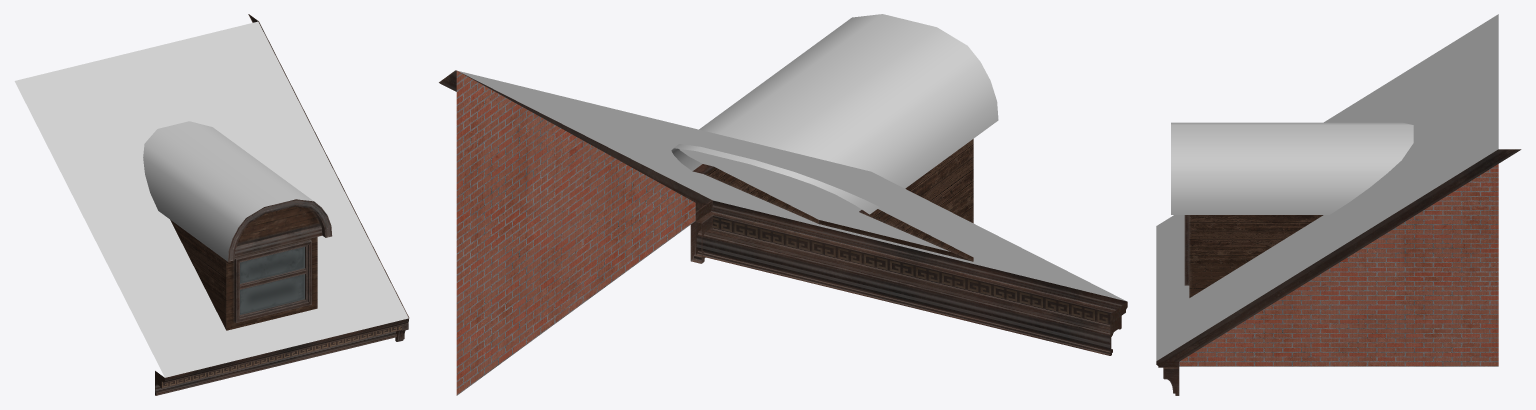
File: House_03_Roof_03.fbx
3 views of the same model, side by side, from view 1: azimuth 30°, elevation 25°; view 2: azimuth 150°, elevation 25°; view 3: azimuth 270°, elevation 25° (orthographic). The views are drawn at different scales.
Parts seen in each view (by area): view 1: House_03_Roof_03_LOD0; view 2: House_03_Roof_03_LOD0; view 3: House_03_Roof_03_LOD0.
Boxes of the visible parts, x1,y1,x2,y2 form: House_03_Roof_03_LOD0: (14, 14, 409, 395); House_03_Roof_03_LOD0: (439, 14, 1127, 395); House_03_Roof_03_LOD0: (1156, 14, 1521, 395).
Size of what is drawn, in the model's own units: 405 by 338 by 457.
